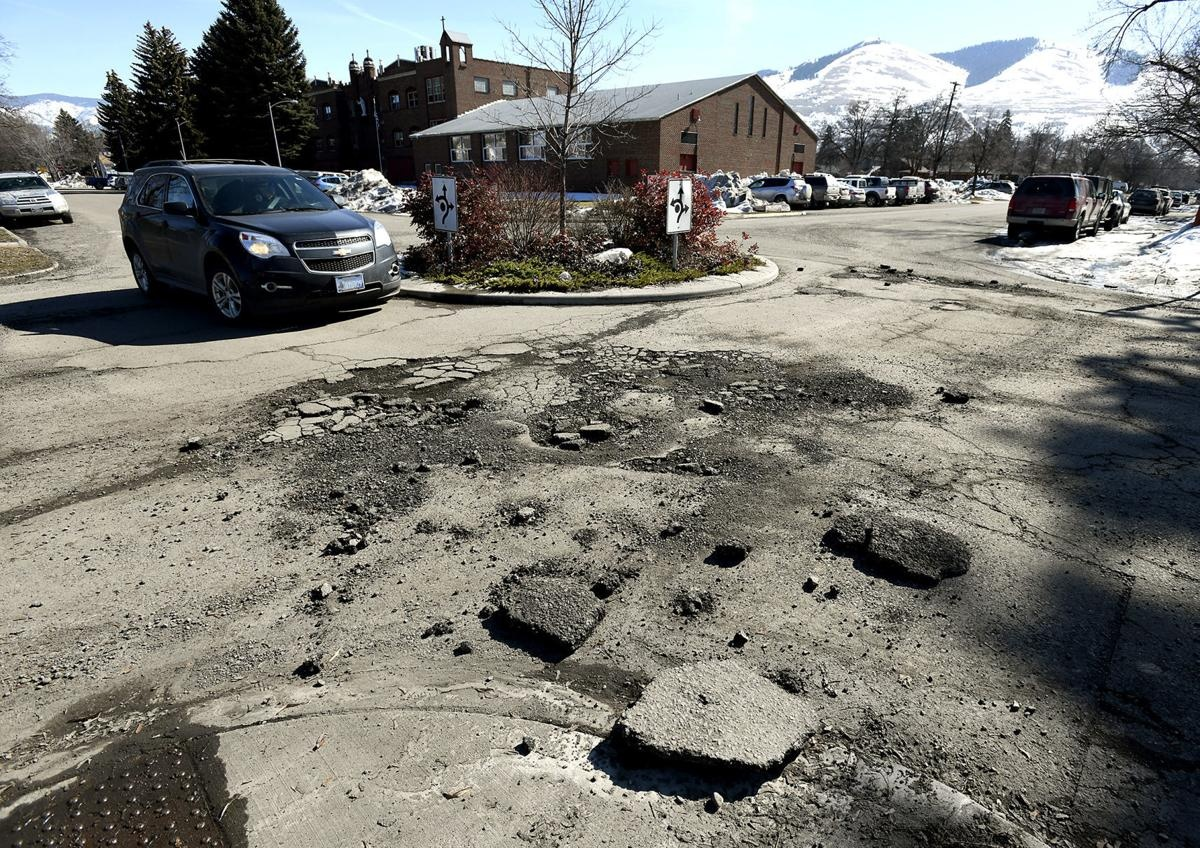pothole: (580, 645, 848, 793), (808, 479, 994, 609), (684, 357, 967, 437), (283, 359, 473, 466), (487, 568, 640, 662), (516, 380, 645, 455)
